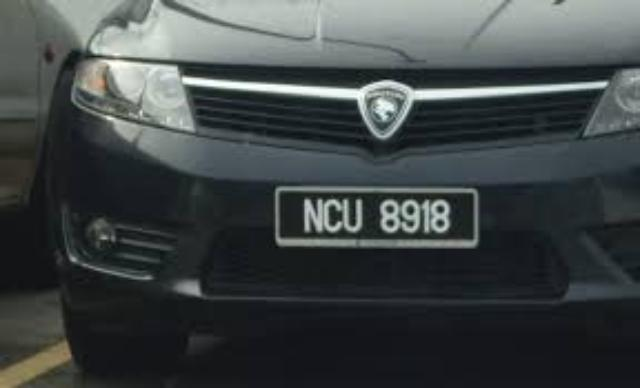License_Plate: (266, 176, 476, 259)
car: (57, 2, 640, 353)
